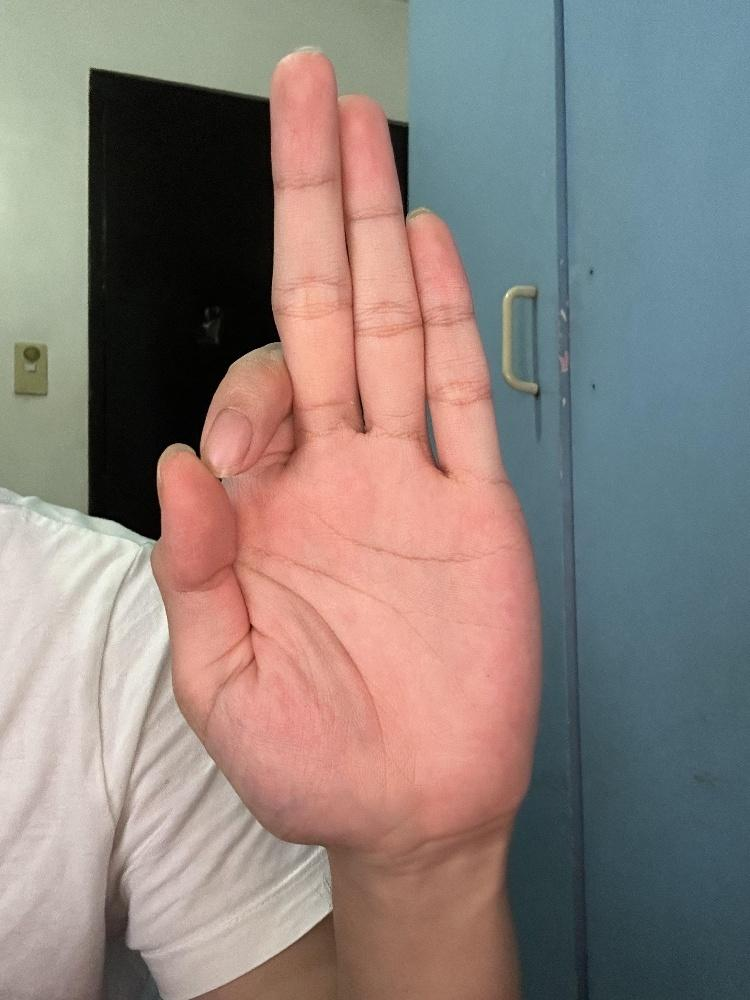f: (146, 41, 549, 867)
